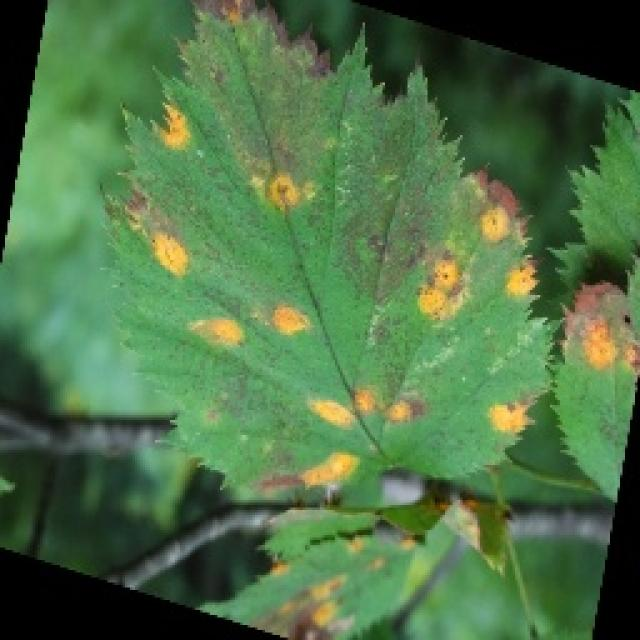Gymnosporangium_Rusts: (97, 17, 640, 537)
